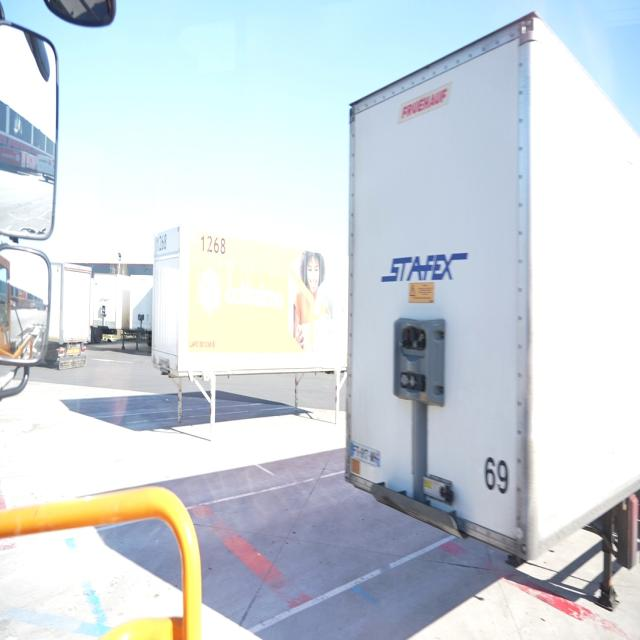Code: (197, 230, 227, 262), (151, 228, 174, 252)
